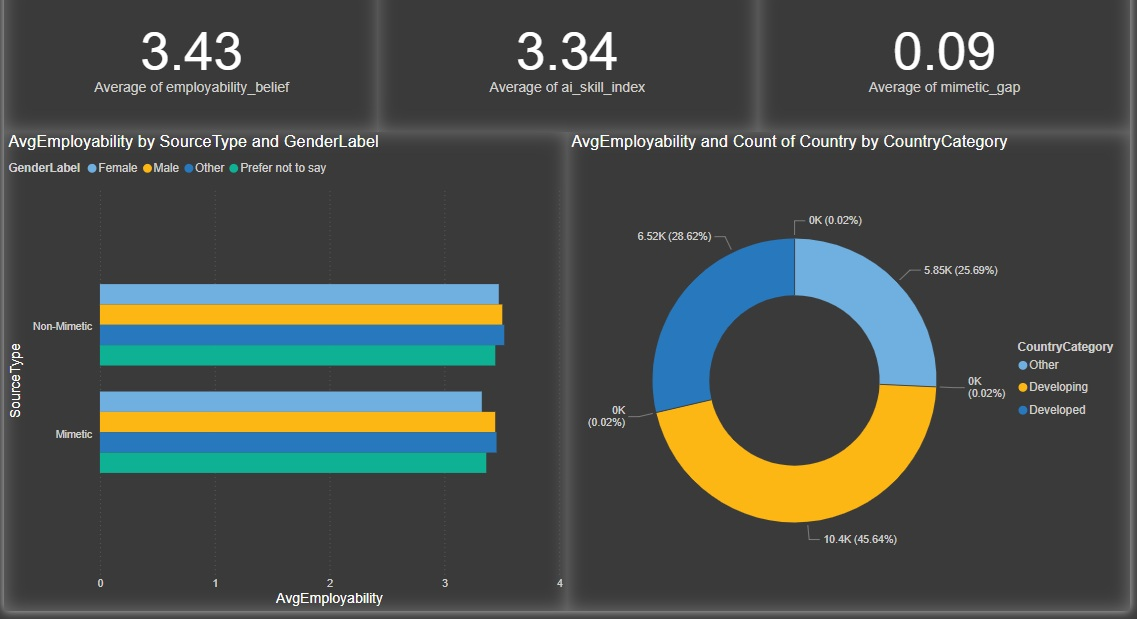

This screenshot's page, from the dashboard's own definition file:
{"tool":"powerbi","page":{"name":"Employability & Belief Overview","canvas":[1280,720],"ordinal":0},"visuals":[{"type":"card","fields":{"Values":["Avg(survey_for_powerbi.employability_belief)"]},"box":[0,0,426.2,176.2],"z":0},{"type":"card","fields":{"Values":["Avg(survey_for_powerbi.ai_skill_index)"]},"box":[423.8,0,432.5,176.2],"z":1000},{"type":"card","fields":{"Values":["Avg(survey_for_powerbi.mimetic_gap)"]},"box":[856.2,0,423.8,176.2],"z":2000},{"type":"clusteredBarChart","fields":{"Category":["survey_for_powerbi.SourceType"],"Y":["survey_for_powerbi.AvgEmployability"],"Series":["survey_for_powerbi.GenderLabel"]},"box":[0,176.2,640,543.8],"z":3000},{"type":"donutChart","fields":{"Category":["survey_for_powerbi.CountryCategory"],"Y":["survey_for_powerbi.AvgEmployability","CountNonNull(survey_for_powerbi.q1)"]},"box":[640,176.2,640,543.8],"z":3001}]}

Visuals, with their boxes on the page's 1280x720 design canvas (x1, y1, x2, y2). These are canvas units, not pixel positions in the 1137x619 screenshot, which may show the page scaled, cropped or inside an application window:
card - Avg(survey_for_powerbi.employability_belief): 0:0:426:176
card - Avg(survey_for_powerbi.ai_skill_index): 424:0:856:176
card - Avg(survey_for_powerbi.mimetic_gap): 856:0:1280:176
clusteredBarChart - survey_for_powerbi.SourceType x survey_for_powerbi.AvgEmployability: 0:176:640:720
donutChart - survey_for_powerbi.CountryCategory x survey_for_powerbi.AvgEmployability: 640:176:1280:720
